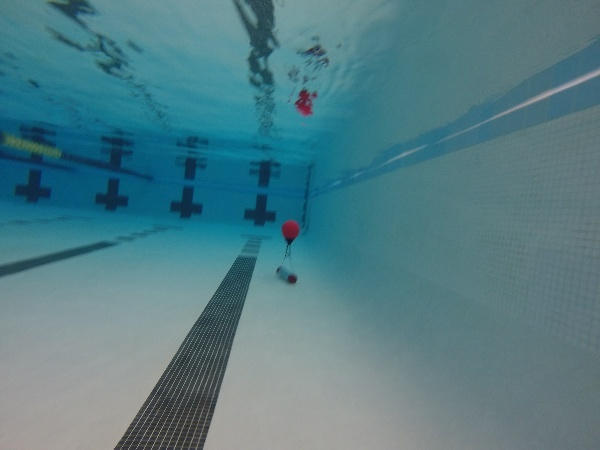buoy_red: (279, 218, 300, 247)
